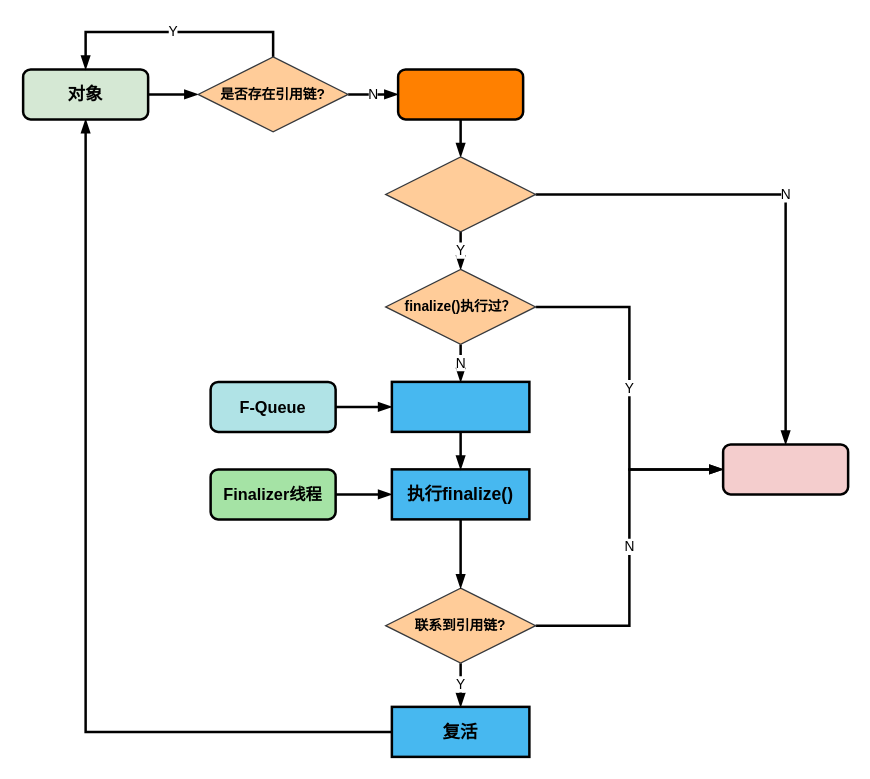
Image size: 870x779. Some labels were removed from this diagram. The shapes that lost their labels are listed below. From the top down, each one's box as (x1, y1, x2, y2) in pixels, then its label:
(396, 68, 524, 120): 垃圾对象
(384, 156, 536, 232): 重写finalize()？
(390, 380, 530, 432): 插入F-Queue
(721, 442, 849, 495): 不可触及
